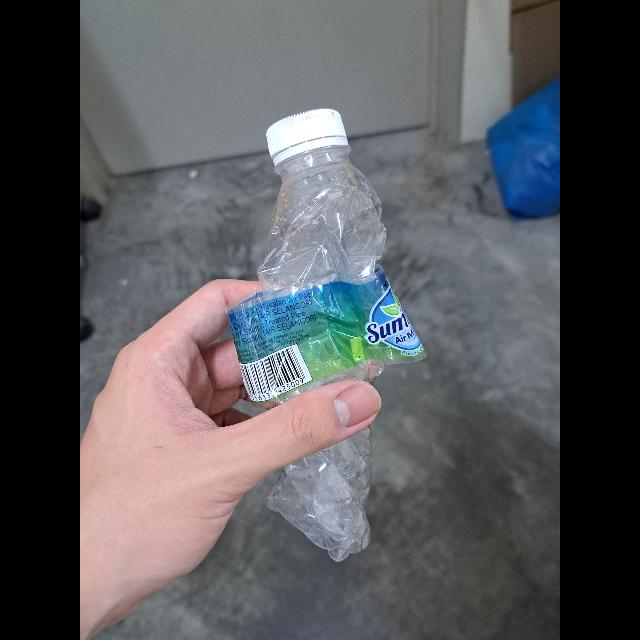garrafa plástica: (228, 148, 428, 562)
tampa plástica: (267, 108, 347, 158)
